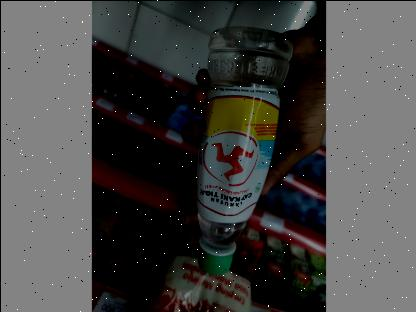Plastic Bottle: (170, 16, 302, 282)
